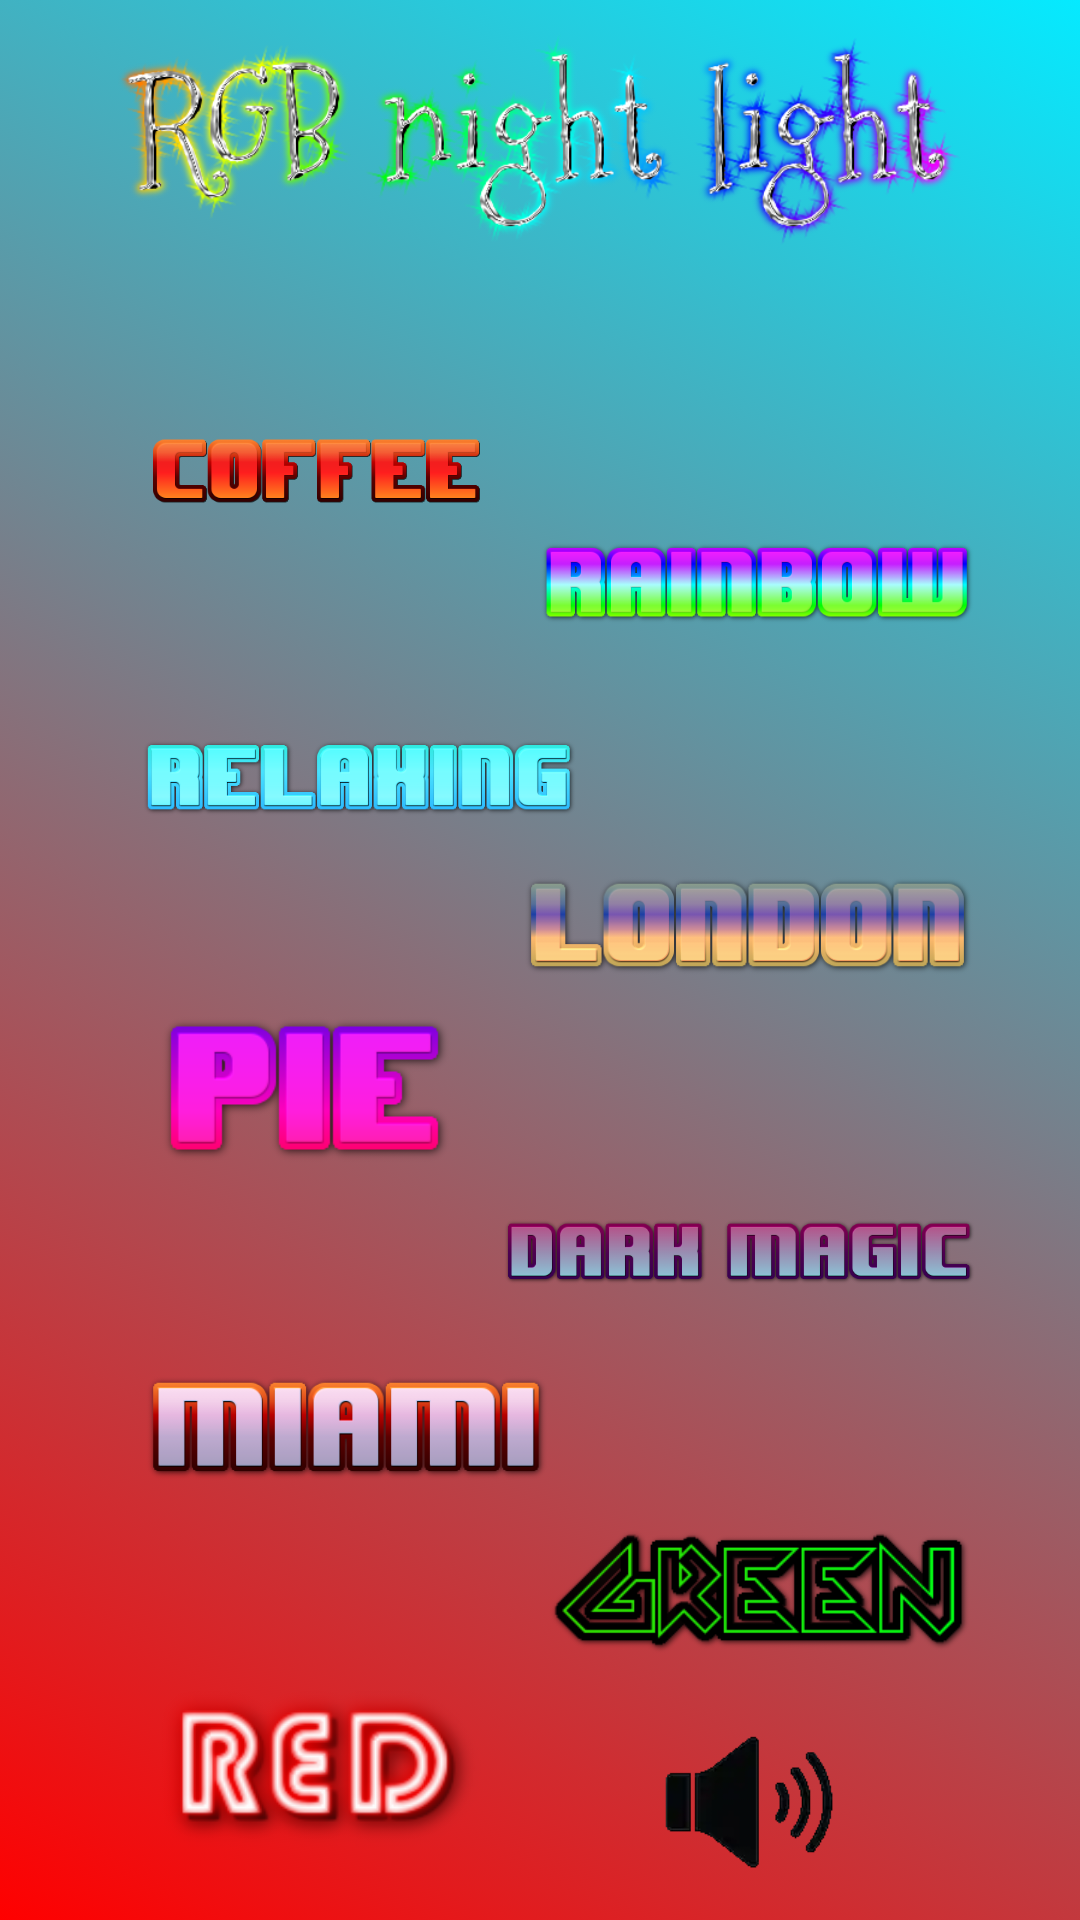

Locate icon controls on the screen. Image size 1080px x 1920px, boxes as (x1, y1, x2, y2).
ses: (645, 1707, 849, 1896)
